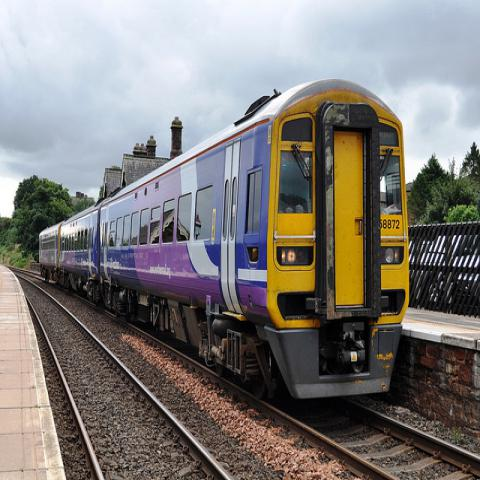car: (438, 250, 479, 303)
